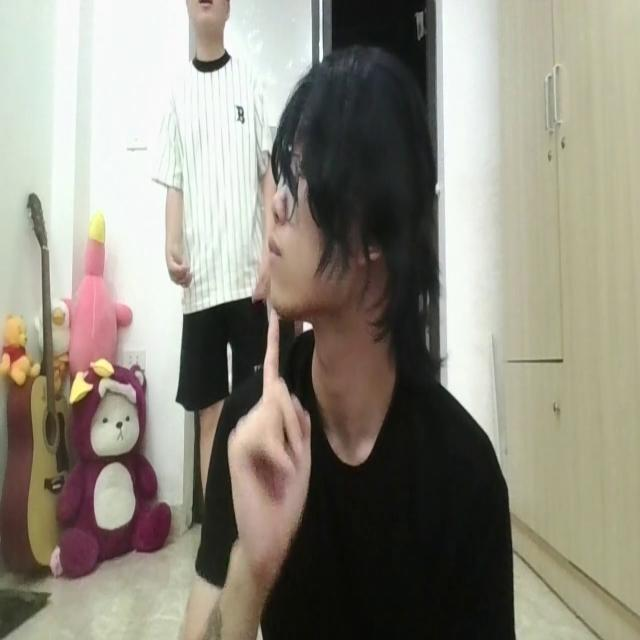extra_person: (160, 0, 273, 421)
student: (189, 37, 513, 640)
